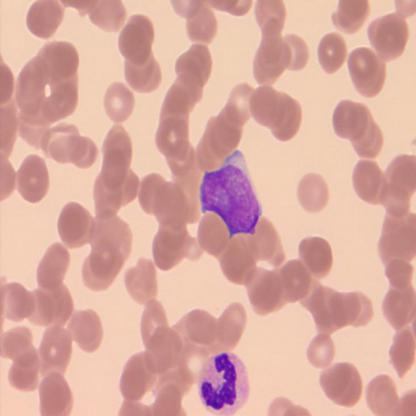Blast: (197, 148, 265, 240)
